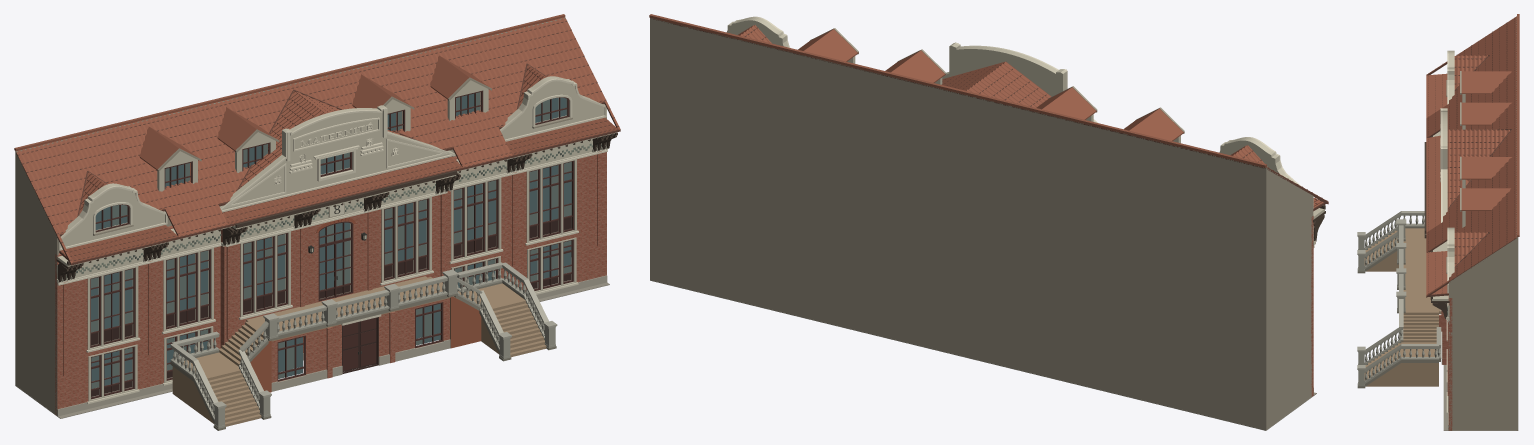
File: huangpu-guangci-maternity-pavilion-twin-stair-lod.glb
3 views of the same model, side by side, from view 1: azimuth 30°, elevation 25°; view 2: azimuth 150°, elevation 25°; view 3: azimuth 270°, elevation 25° (orthographic). The views are drawn at different scales.
Visible parts, largest first — view 1: 广慈医院原产科楼庭院立面与双梯门廊; view 2: 广慈医院原产科楼庭院立面与双梯门廊; view 3: 广慈医院原产科楼庭院立面与双梯门廊.
Boxes of the visible parts, x1,y1,x2,y2 form: 广慈医院原产科楼庭院立面与双梯门廊: [14, 14, 620, 430]; 广慈医院原产科楼庭院立面与双梯门廊: [649, 14, 1328, 430]; 广慈医院原产科楼庭院立面与双梯门廊: [1357, 14, 1519, 430].
Bounding box in the file's own units: 40.45 × 16.74 × 12.52.
22 materials, 1 textured.
